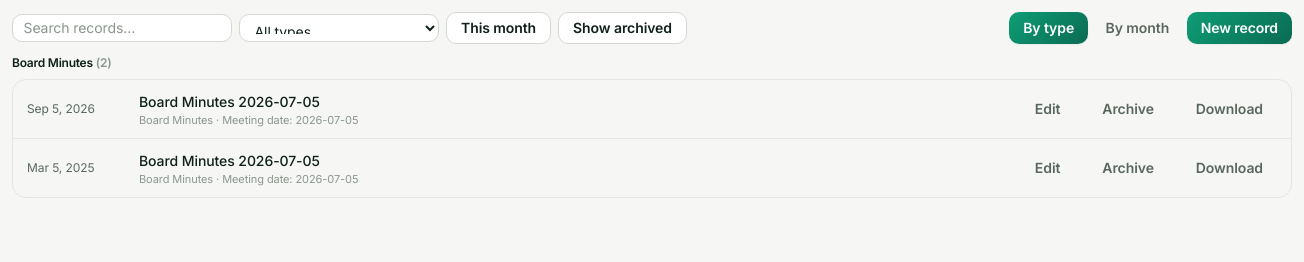
it: RecordsTab › renders records, filters by this month, and toggles views
Expected: the text "(2)" is shown, [96, 55, 111, 70]
Note: Switch to By month → two month headings.
Click the button "By month".
click(1137, 28)  # box [1092, 12, 1183, 44]
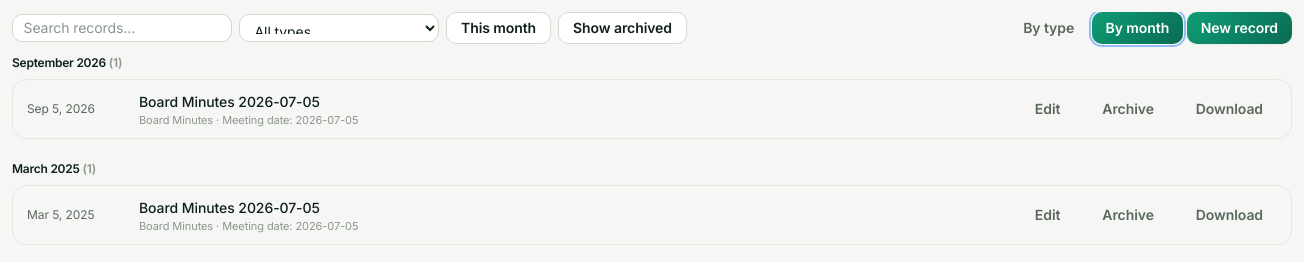
Expected: the heading "March 2025 (1)" is shown, [12, 161, 96, 176]
Note: This month filter → only the July record remains.
Click the button "This month".
click(499, 28)  # box [446, 12, 551, 44]
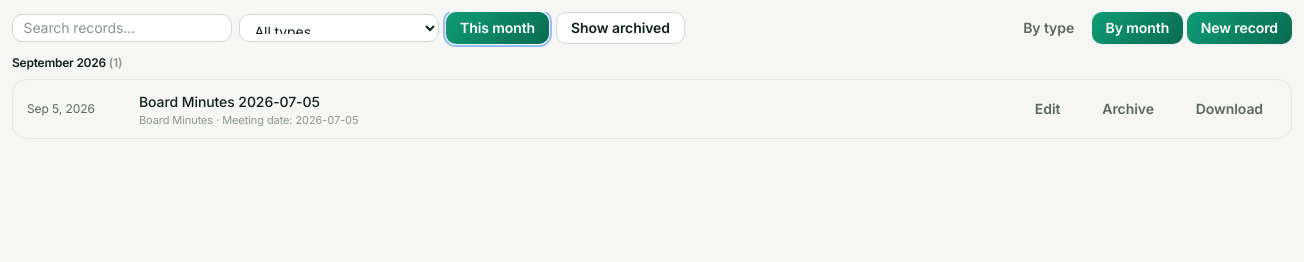
Expected: the heading "March 2025" is gone
